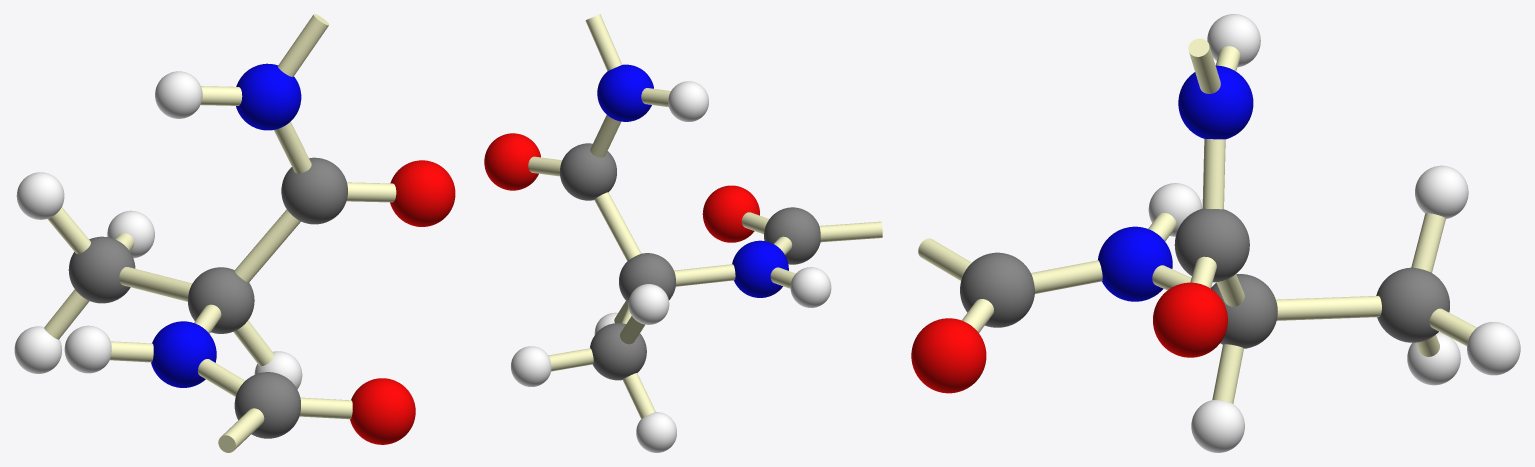
The model's file is conformation.gltf.
3 views of the same model, side by side, from view 1: azimuth 30°, elevation 25°; view 2: azimuth 150°, elevation 25°; view 3: azimuth 270°, elevation 25° (orthographic). The views are drawn at different scales.
Parts seen in each view (by area): view 1: ?????????2, ?????????6, ?????????13, ?????????5, ?????????3, ?????????9, ?????????1, ?????????4, ?????????12, ?????????14, ?????????7, ?????????10 (+16 smaller); view 2: ?????????5, ?????????6, ?????????13, ?????????2, ?????????3, ?????????9, ?????????1, ?????????4, ?????????7, ?????????12, ?????????14, ?????????11 (+12 smaller); view 3: ?????????2, ?????????6, ?????????3, ?????????9, ?????????1, ?????????5, ?????????13, ?????????4, ?????????11, ?????????22, ?????????8, ?????????12 (+14 smaller).
Part boxes in pixels (x1,y1,x2,y2): ?????????2: [350, 378, 415, 444]; ?????????6: [390, 160, 455, 226]; ?????????13: [236, 63, 301, 130]; ?????????5: [281, 157, 347, 224]; ?????????3: [151, 321, 216, 387]; ?????????9: [68, 236, 135, 303]; ?????????1: [234, 372, 300, 438]; ?????????4: [187, 267, 254, 333]; ?????????12: [16, 172, 64, 219]; ?????????14: [155, 71, 202, 118]; ?????????7: [64, 325, 111, 373]; ?????????10: [14, 326, 62, 373]; ?????????5: [560, 143, 616, 200]; ?????????6: [484, 133, 540, 190]; ?????????13: [597, 64, 653, 121]; ?????????2: [702, 185, 759, 242]; ?????????3: [732, 240, 788, 297]; ?????????9: [590, 323, 646, 380]; ?????????1: [764, 207, 820, 264]; ?????????4: [619, 253, 675, 302]; ?????????7: [790, 267, 831, 307]; ?????????12: [628, 284, 669, 324]; ?????????14: [668, 81, 708, 121]; ?????????11: [510, 346, 551, 386]; ?????????2: [911, 318, 986, 393]; ?????????6: [1153, 282, 1227, 357]; ?????????3: [1098, 226, 1172, 301]; ?????????9: [1376, 267, 1449, 342]; ?????????1: [960, 252, 1034, 327]; ?????????5: [1174, 208, 1249, 282]; ?????????13: [1178, 65, 1253, 139]; ?????????4: [1211, 274, 1277, 348]; ?????????11: [1467, 322, 1520, 375]; ?????????22: [1276, 295, 1381, 320]; ?????????8: [1191, 400, 1244, 452]; ?????????12: [1415, 165, 1468, 218].
Bounding box in the file's own units: 47.18 × 45.09 × 56.76.
